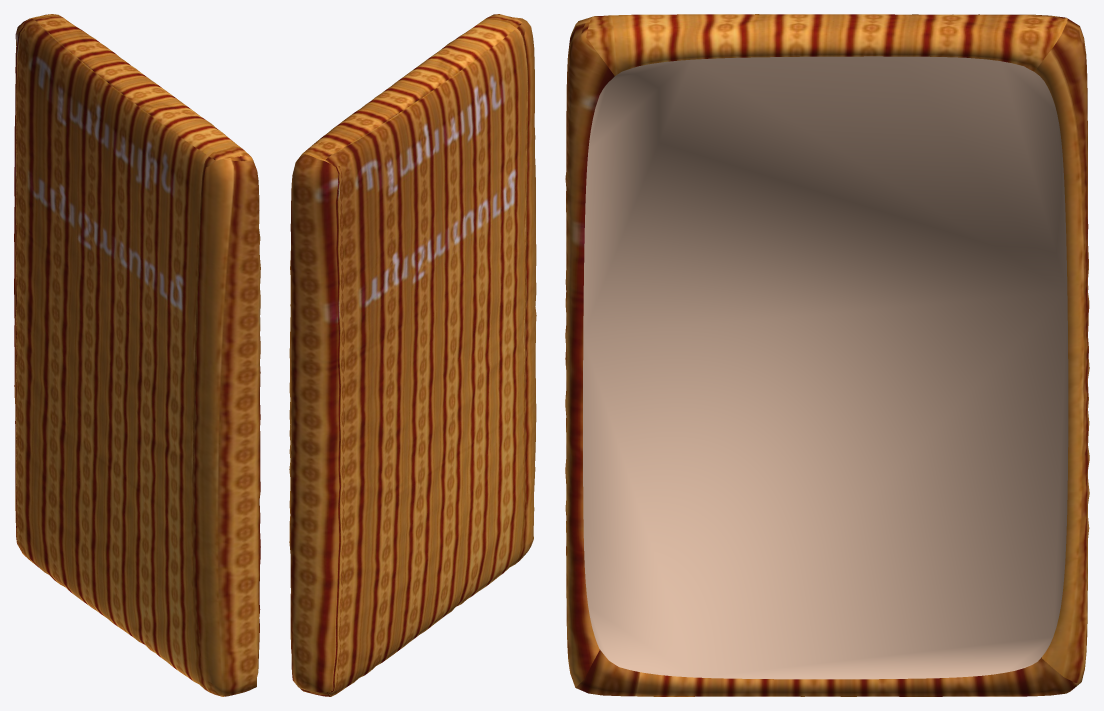
Rendered from planned-outage.glb.
3 views of the same model, side by side, from view 1: azimuth 30°, elevation 25°; view 2: azimuth 150°, elevation 25°; view 3: azimuth 270°, elevation 25° (orthographic). The views are drawn at different scales.
Parts seen in each view (by area): view 1: Old Mattress; view 2: Old Mattress; view 3: Old Mattress.
Boxes of the visible parts, x1,y1,x2,y2 form: Old Mattress: (14,14,260,696); Old Mattress: (289,14,536,696); Old Mattress: (565,14,1089,696).
Size of the model in its own units: 0.2266 by 2.16 by 1.54.
Materials: 2 (1 with a texture image).
